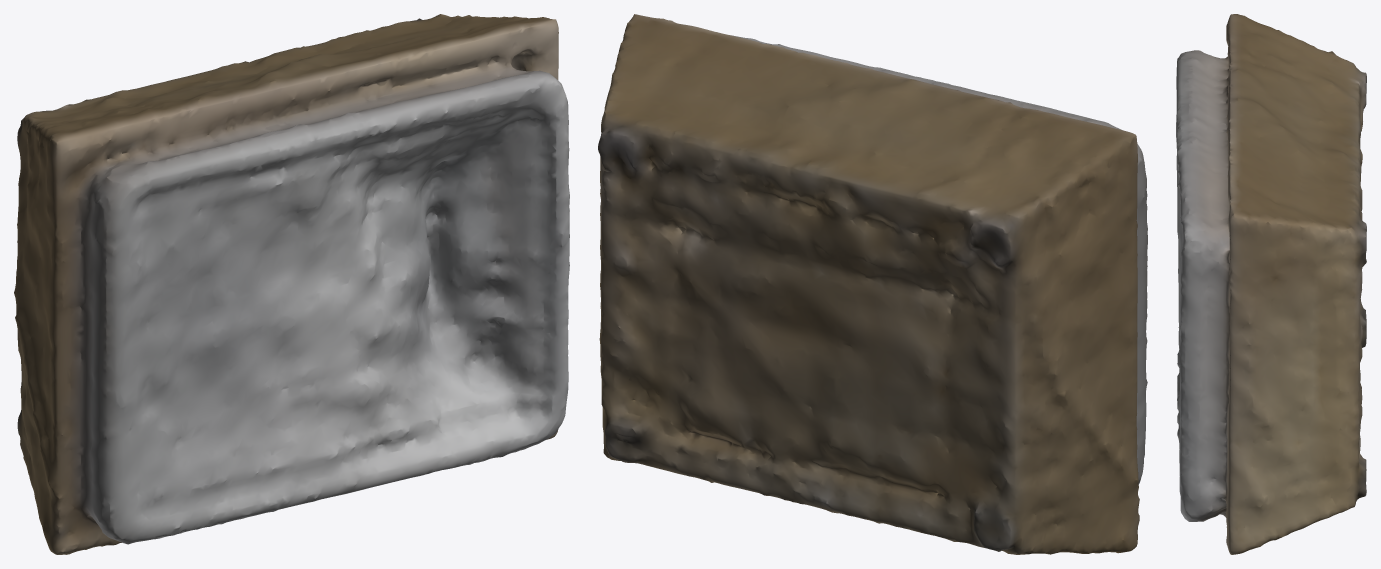
The model's file is soap.glb.
3 views of the same model, side by side, from view 1: azimuth 30°, elevation 25°; view 2: azimuth 150°, elevation 25°; view 3: azimuth 270°, elevation 25° (orthographic). The views are drawn at different scales.
Size of the model in its own units: 0.9957 by 0.796 by 0.3949.
